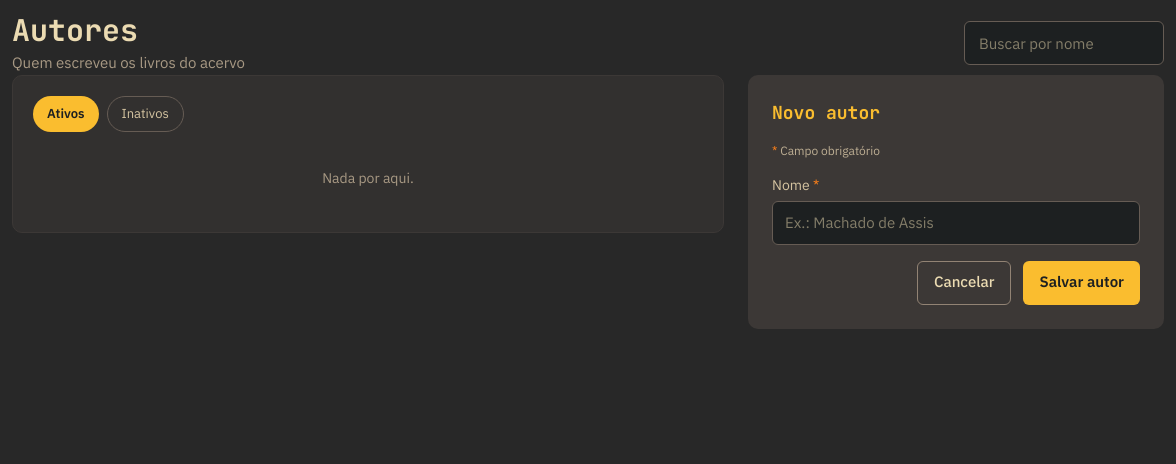
Test: autores: erro de campo do servidor › 400 com errors marca o campo Nome, sem banner
The image size is (1176, 464).
Type "Ana" into the field labelled "Nome *" at (956, 222), box top-left (772, 200), bottom-right (1140, 244)
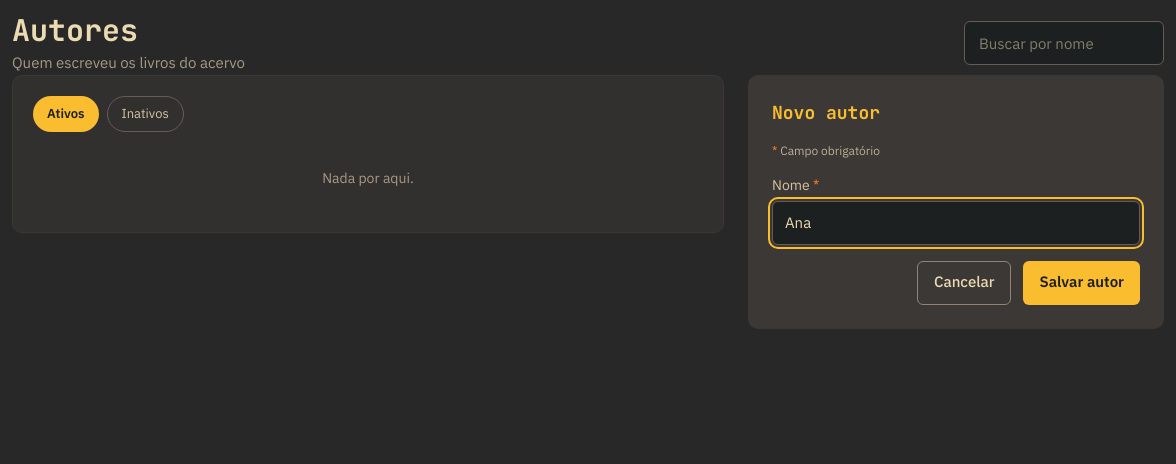
Click the button "Salvar autor" at (1082, 282), box top-left (1024, 260), bottom-right (1140, 304)
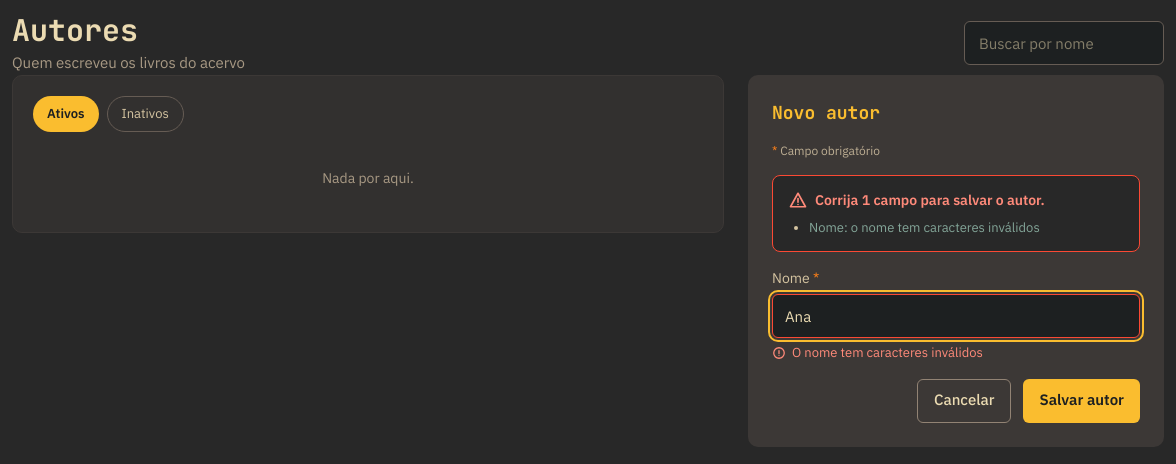
Now the text "Corrija 1 campo para salvar o autor." is shown, box top-left (789, 190), bottom-right (1045, 208)
Now the number of messages is 1, box top-left (772, 174), bottom-right (1140, 252)
